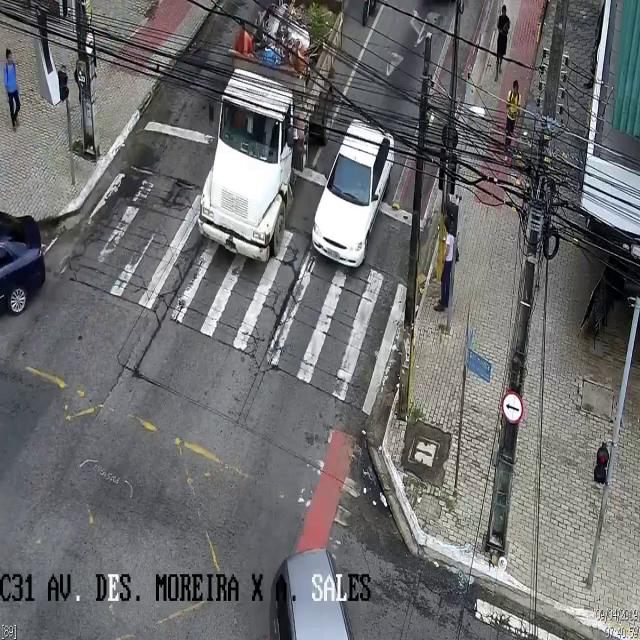Car: (312, 116, 394, 266), (268, 542, 350, 639), (1, 209, 46, 317)
Truck: (199, 3, 342, 260)
